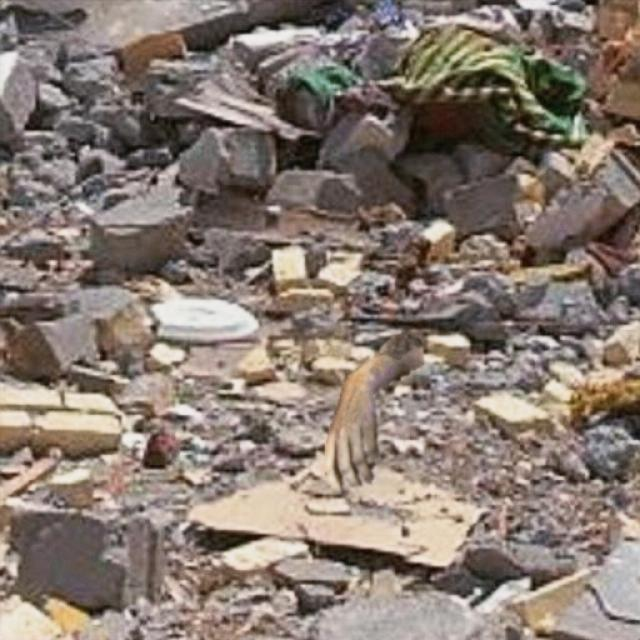Person in Rubble: (325, 332, 423, 492)
